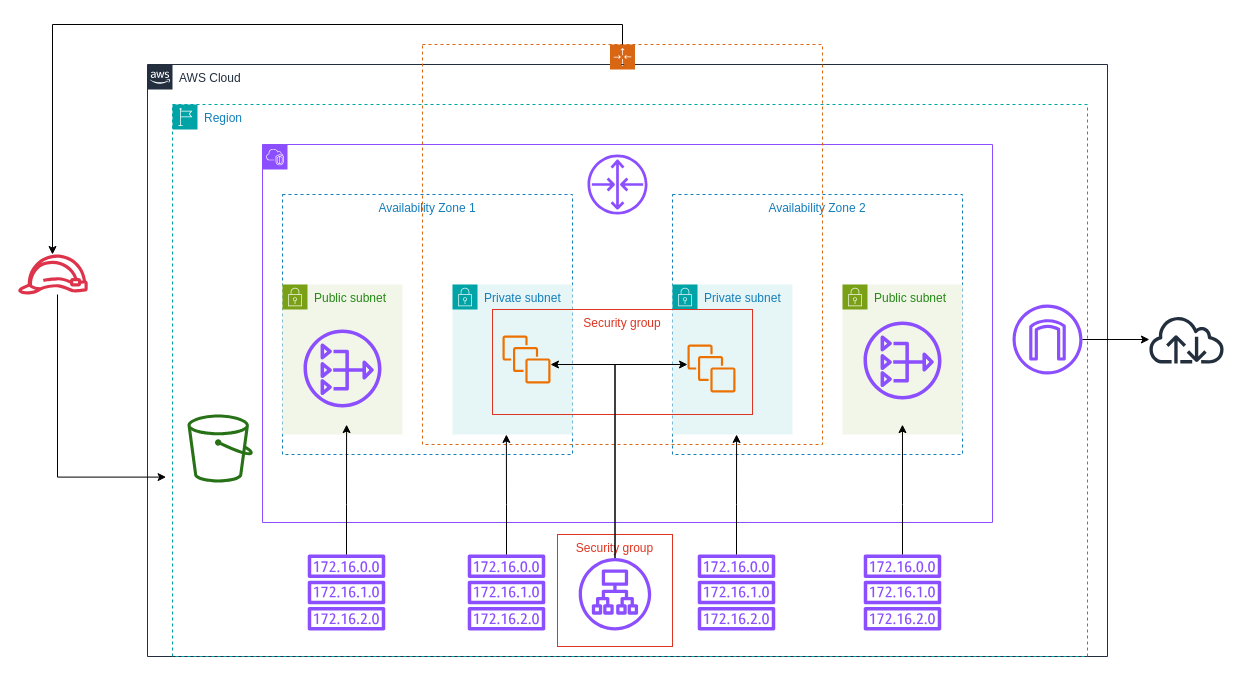
Some shapes in this 1242 by 674 pixel diagram are drawn without their labels. Each missing label, with the box of its shape:
Auto Scaling group: (422, 44, 822, 444)
Bucket: (187, 414, 252, 482)
VPC: (262, 144, 992, 522)
